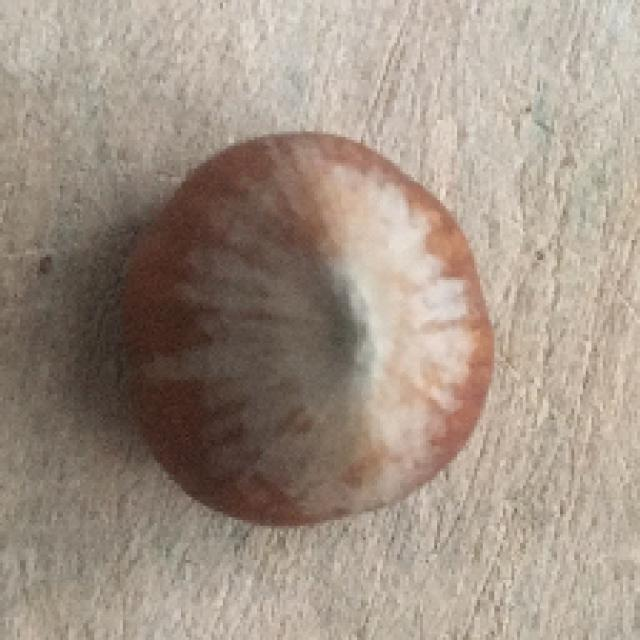qualityHazelnut: (118, 131, 498, 533)
